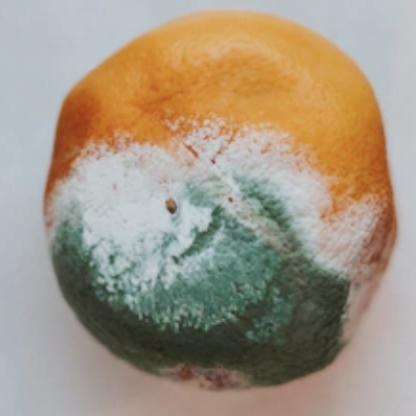rotten: (48, 8, 401, 393)
